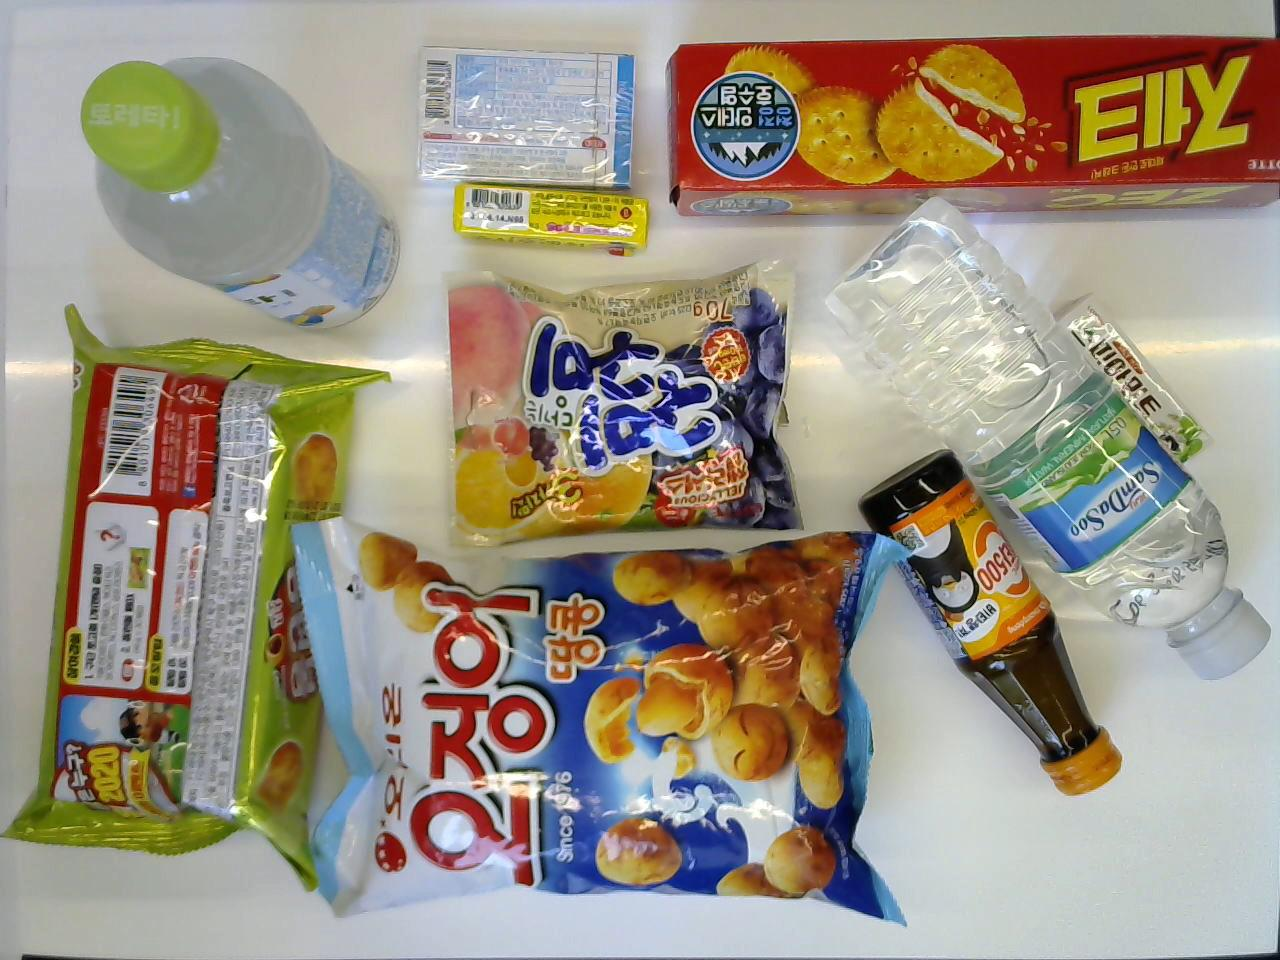ID_gum: (408, 40, 640, 187)
gumi_gumi: (447, 255, 805, 555)
homerunball: (4, 295, 397, 891)
juicyfresh: (450, 179, 655, 258)
samdasu: (824, 196, 1269, 687)
spearmint: (1051, 294, 1215, 466)
squid_peanut: (289, 506, 912, 936)
toreta: (77, 53, 403, 329)
vita500: (860, 449, 1122, 802)
zec: (663, 29, 1280, 222)
